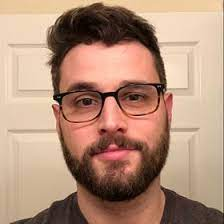s.white: (123, 112, 167, 141)
